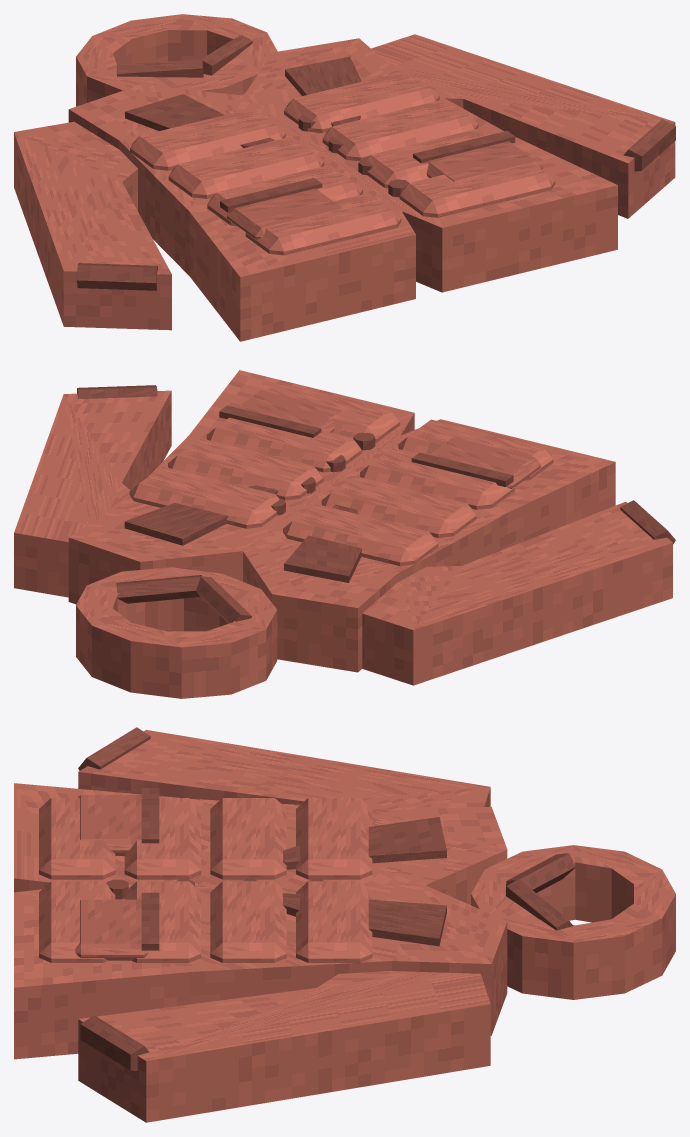
The model's file is coat_winter.glb.
3 renders of one model, top to bottom at view 1: azimuth 30°, elevation 25°; view 2: azimuth 150°, elevation 25°; view 3: azimuth 270°, elevation 25°, orthographic. The views are drawn at different scales.
Visible parts, largest first — view 1: block_coat body, block_sleeve (×2), block_quilted insulation (×8), block_hood, block_patch pocket (×2), block_lapel (×2), block_cuff 0 (×2), block_pocket welt (×2), block_hood facing 0, block_hood facing 1; view 2: block_sleeve (×2), block_coat body, block_quilted insulation (×8), block_hood, block_lapel (×2), block_patch pocket (×2), block_pocket welt (×2), block_cuff 0 (×2), block_hood facing 1, block_hood facing 0; view 3: block_sleeve (×2), block_coat body, block_quilted insulation (×8), block_hood, block_patch pocket (×2), block_lapel (×2), block_cuff 0 (×2), block_pocket welt (×2), block_hood facing 0, block_hood facing 1.
Boxes of the visible parts, x1,y1,x2,y2 form: block_coat body: (68, 38, 617, 341); block_sleeve (×2): (14, 34, 675, 330); block_quilted insulation (×8): (130, 70, 555, 255); block_hood: (76, 14, 277, 106); block_patch pocket (×2): (227, 141, 542, 239); block_lapel (×2): (125, 56, 361, 147); block_cuff 0 (×2): (77, 119, 675, 290); block_pocket welt (×2): (220, 131, 515, 212); block_hood facing 0: (116, 59, 203, 77); block_hood facing 1: (200, 34, 252, 75); block_sleeve (×2): (14, 390, 672, 685); block_coat body: (68, 370, 615, 672); block_quilted insulation (×8): (129, 382, 553, 565); block_hood: (76, 567, 277, 698); block_lapel (×2): (124, 485, 361, 582); block_patch pocket (×2): (237, 390, 540, 488); block_pocket welt (×2): (219, 405, 513, 487); block_cuff 0 (×2): (77, 385, 675, 544); block_hood facing 1: (116, 575, 201, 603); block_hood facing 0: (196, 576, 251, 623); block_sleeve (×2): (78, 730, 490, 1122); block_coat body: (14, 783, 507, 1059); block_quilted insulation (×8): (39, 798, 372, 963); block_hood: (471, 845, 675, 999); block_patch pocket (×2): (75, 795, 148, 960); block_lapel (×2): (283, 817, 446, 946); block_cuff 0 (×2): (78, 727, 150, 1070); block_pocket welt (×2): (141, 788, 159, 950); block_hood facing 0: (505, 853, 575, 892); block_hood facing 1: (505, 879, 572, 930).
Size of the model in its own units: 0.8977 by 0.1151 by 0.758.
1 material, 1 textured.
